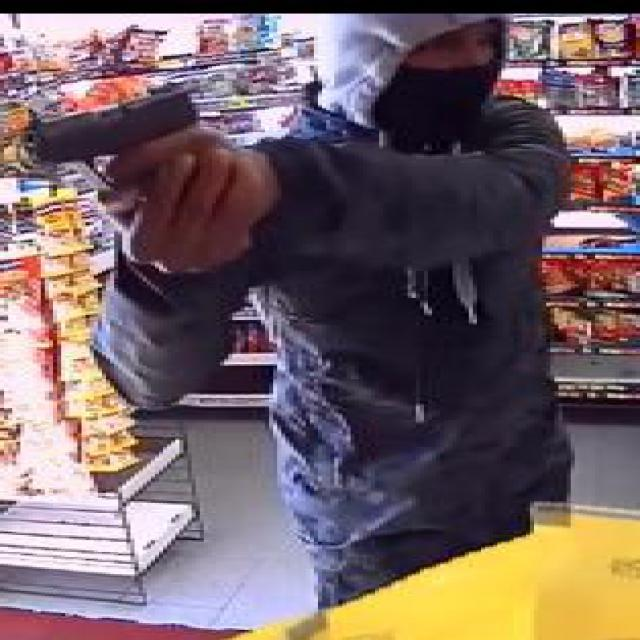Gun: (20, 86, 216, 217)
